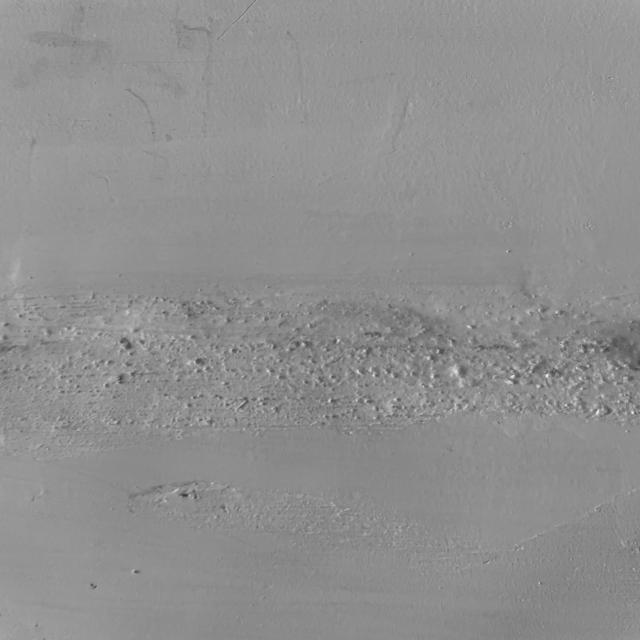rough and patchy surface: (0, 286, 640, 456), (0, 0, 638, 165), (115, 475, 640, 615)
